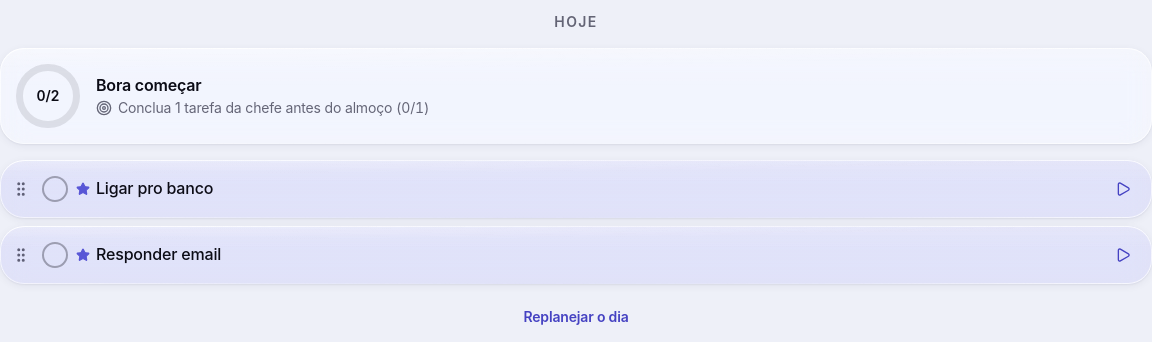
Test: Hoje — lista planejada › checkbox conclui com XP e Desfazer
This screenshot has width=1152, height=342.
Click the checkbox named "Concluir \"Ligar pro banco\"": (55, 189) [42,176,68,202]
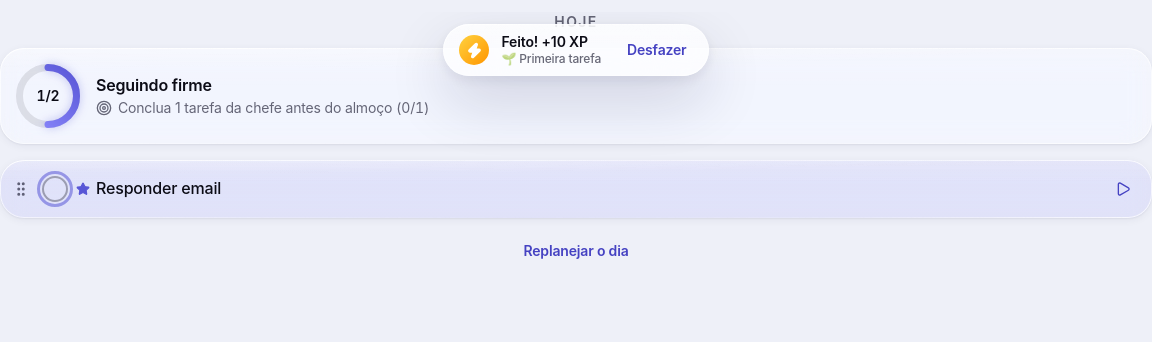
Result: the button "Desfazer" is shown at [613,33,700,67]
